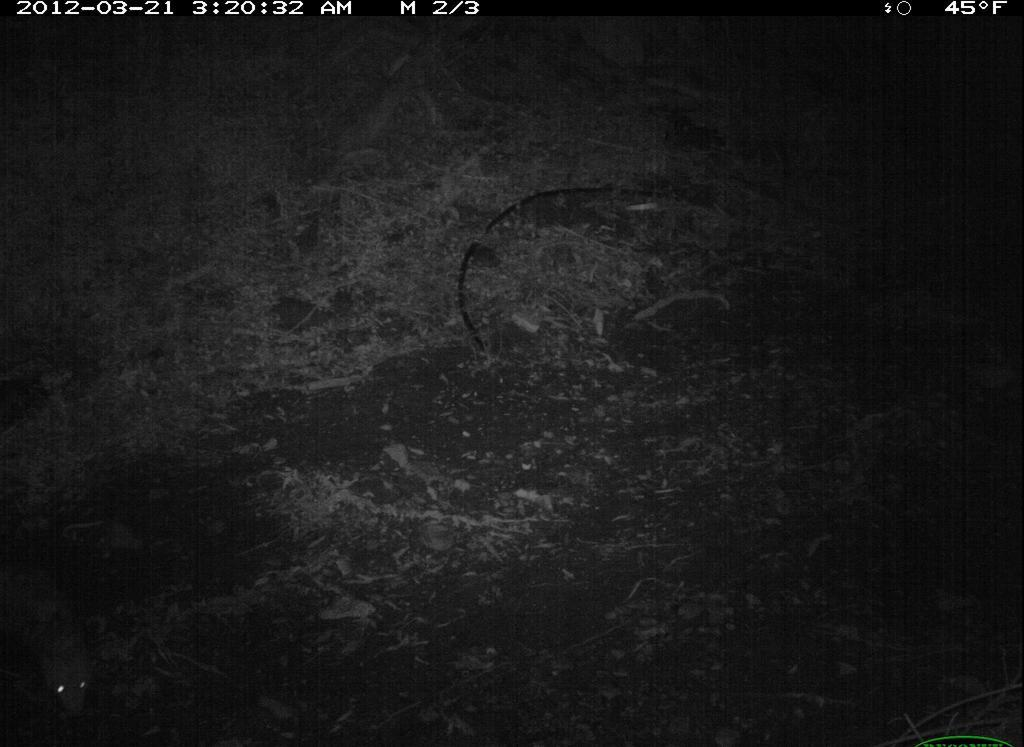opossum: (1, 548, 104, 728)
